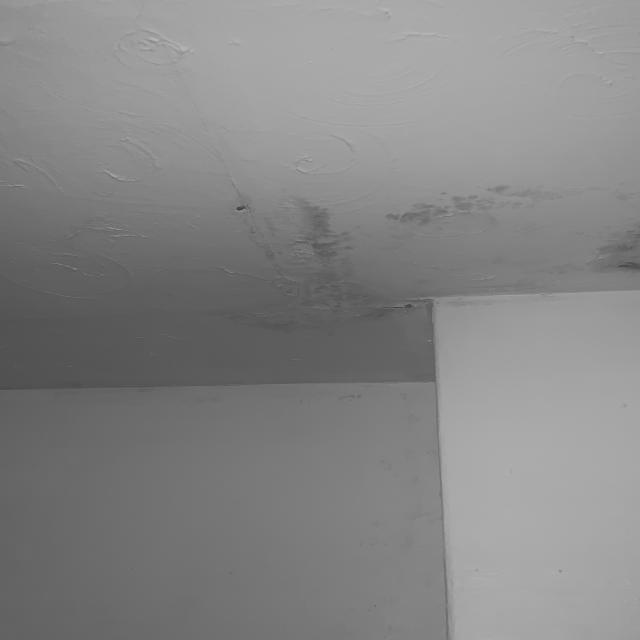pin holes: (395, 296, 422, 322), (231, 194, 254, 224)
stain marks: (177, 130, 640, 348), (323, 384, 445, 629)
